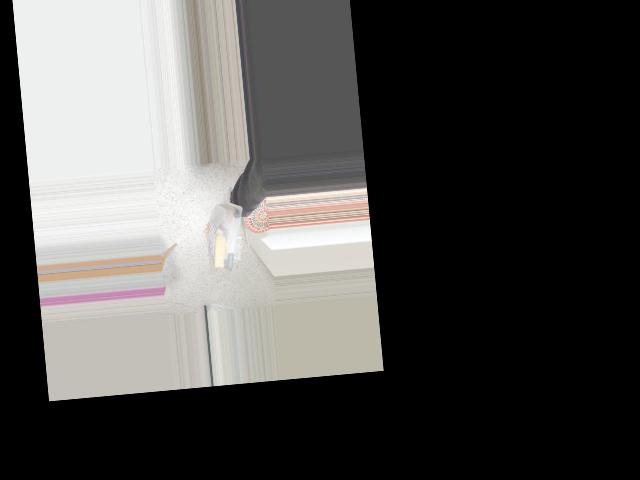cheese: (203, 202, 250, 272)
